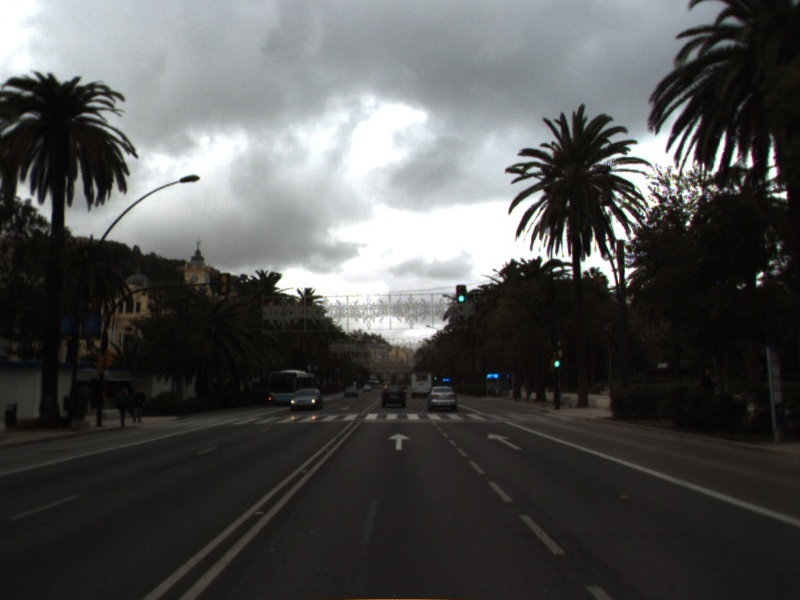STRAIGHT: (484, 430, 524, 452), (385, 431, 414, 452)
